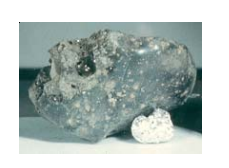Breccia: (21, 24, 197, 147), (80, 42, 183, 139)
